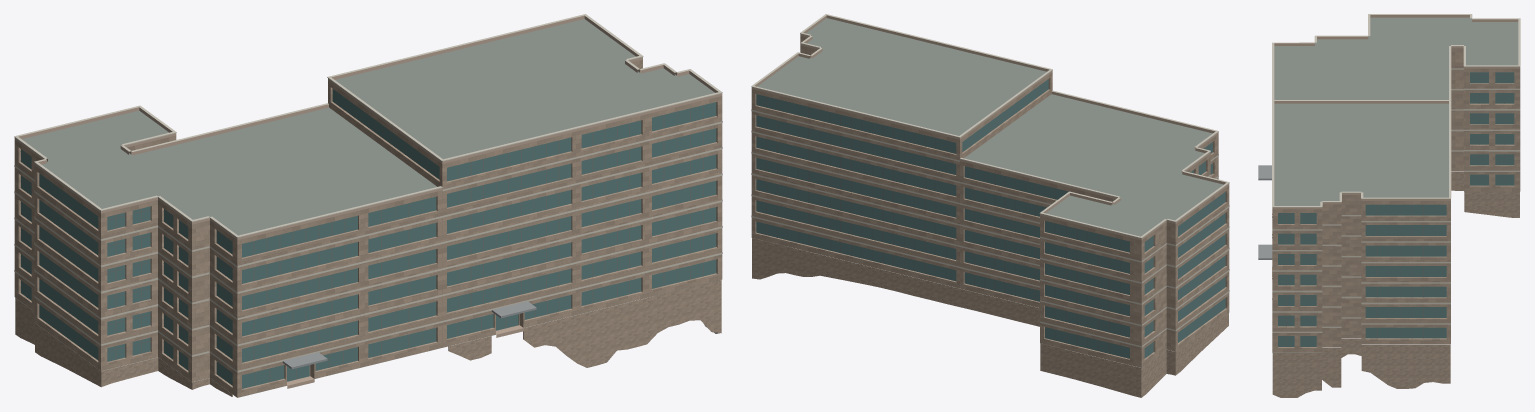
The picture shows the model from 3 angles, left to right: view 1: azimuth 30°, elevation 25°; view 2: azimuth 150°, elevation 25°; view 3: azimuth 270°, elevation 25°; orthographic projection. The views are drawn at different scales.
Parts seen in each view (by area): view 1: law__wall, law__roof, law__glass, law__trim, law__foundationSkirt, law__parapet, law__frame, law__canopy; view 2: law__wall, law__roof, law__glass, law__foundationSkirt, law__trim, law__parapet, law__frame; view 3: law__roof, law__wall, law__glass, law__foundationSkirt, law__trim, law__parapet, law__frame, law__canopy.
Part boxes in pixels (bbox=[...]): law__wall: bbox=[14, 59, 722, 397]; law__roof: bbox=[16, 19, 721, 397]; law__glass: bbox=[21, 89, 716, 388]; law__trim: bbox=[14, 14, 722, 372]; law__foundationSkirt: bbox=[15, 280, 721, 396]; law__parapet: bbox=[14, 15, 722, 240]; law__frame: bbox=[20, 94, 703, 385]; law__canopy: bbox=[282, 301, 536, 369]; law__wall: bbox=[751, 36, 1229, 367]; law__roof: bbox=[757, 18, 1223, 366]; law__glass: bbox=[756, 79, 1225, 358]; law__foundationSkirt: bbox=[752, 238, 1228, 397]; law__trim: bbox=[751, 14, 1229, 347]; law__parapet: bbox=[751, 15, 1229, 240]; law__frame: bbox=[766, 83, 1213, 356]; law__roof: bbox=[1272, 17, 1518, 352]; law__wall: bbox=[1272, 48, 1520, 352]; law__glass: bbox=[1278, 72, 1514, 346]; law__foundationSkirt: bbox=[1272, 171, 1519, 397]; law__trim: bbox=[1272, 14, 1520, 332]; law__parapet: bbox=[1272, 15, 1520, 209]; law__frame: bbox=[1278, 72, 1513, 346]; law__canopy: bbox=[1258, 165, 1272, 259].
Bounding box in the file's own units: 78.26 × 32.7 × 40.66.
Materials: 11 (2 with a texture image).
